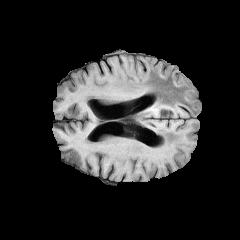glioma: (118, 68, 197, 145)
